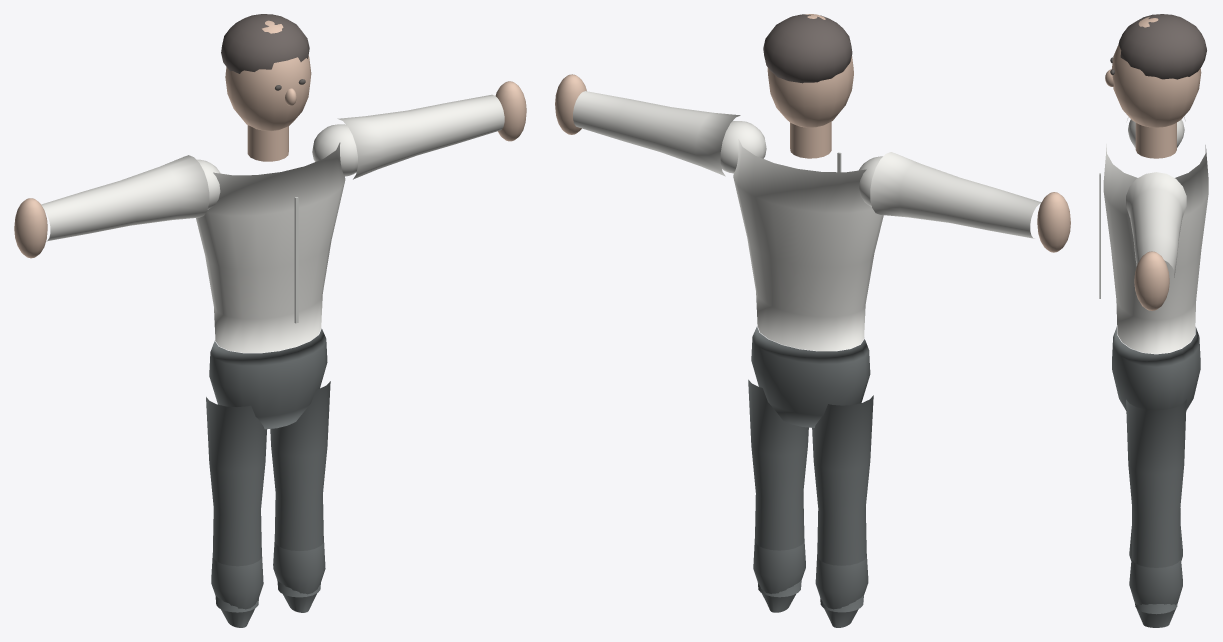
Rendered from original-player-a.glb.
3 views of the same model, side by side, from view 1: azimuth 30°, elevation 25°; view 2: azimuth 150°, elevation 25°; view 3: azimuth 270°, elevation 25° (orthographic).
Parts seen in each view (by area): view 1: FittedTop, FittedLeg_L, FittedArm_L, FittedLeg_R, FittedPelvis, FittedArm_R, Head, Hair, PointedFoot_L, PointedFoot_R, Hand_L, SoftShoulder_R (+2 smaller); view 2: FittedTop, FittedLeg_L, FittedArm_L, FittedLeg_R, FittedPelvis, FittedArm_R, Hair, Head, PointedFoot_L, PointedFoot_R, Hand_L, SoftShoulder_R (+2 smaller); view 3: FittedTop, FittedLeg_R, FittedPelvis, Hair, FittedArm_R, Head, PointedFoot_R, Hand_R, Neck, SoftShoulder_L, ClothCenterSeam.
Part boxes in pixels (x1,y1,x2,y2): FittedTop: [196, 142, 345, 352]; FittedLeg_L: [206, 397, 266, 612]; FittedArm_L: [41, 155, 209, 241]; FittedLeg_R: [270, 381, 330, 597]; FittedPelvis: [209, 328, 327, 429]; FittedArm_R: [337, 94, 504, 179]; Head: [225, 20, 311, 130]; Hair: [221, 14, 309, 73]; PointedFoot_L: [211, 557, 263, 627]; PointedFoot_R: [273, 542, 325, 612]; Hand_L: [14, 198, 47, 258]; SoftShoulder_R: [312, 124, 357, 176]; FittedTop: [733, 139, 883, 351]; FittedLeg_L: [812, 395, 873, 612]; FittedArm_L: [870, 152, 1041, 238]; FittedLeg_R: [748, 379, 808, 597]; FittedPelvis: [751, 327, 870, 427]; FittedArm_R: [573, 91, 740, 176]; Hair: [763, 14, 852, 83]; Head: [767, 14, 853, 127]; PointedFoot_L: [815, 554, 868, 627]; PointedFoot_R: [753, 539, 805, 612]; Hand_L: [1037, 192, 1070, 252]; SoftShoulder_R: [720, 121, 766, 173]; FittedTop: [1103, 144, 1208, 353]; FittedLeg_R: [1126, 399, 1186, 614]; FittedPelvis: [1112, 326, 1200, 410]; Hair: [1118, 14, 1206, 79]; FittedArm_R: [1126, 172, 1186, 277]; Head: [1112, 17, 1201, 127]; PointedFoot_R: [1129, 556, 1182, 627]; Hand_R: [1134, 251, 1169, 310]; Neck: [1135, 122, 1176, 158]; SoftShoulder_L: [1128, 119, 1184, 147]; ClothCenterSeam: [1099, 173, 1100, 298].
Size of the model in its own units: 2.46 by 2.75 by 0.4626.
